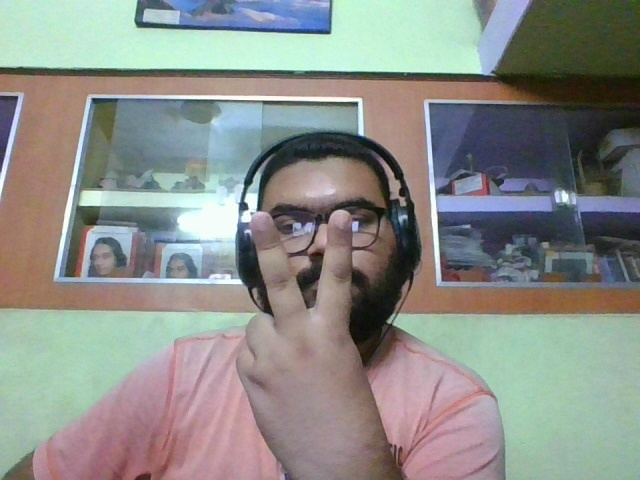iloveyou: (232, 210, 368, 428)
